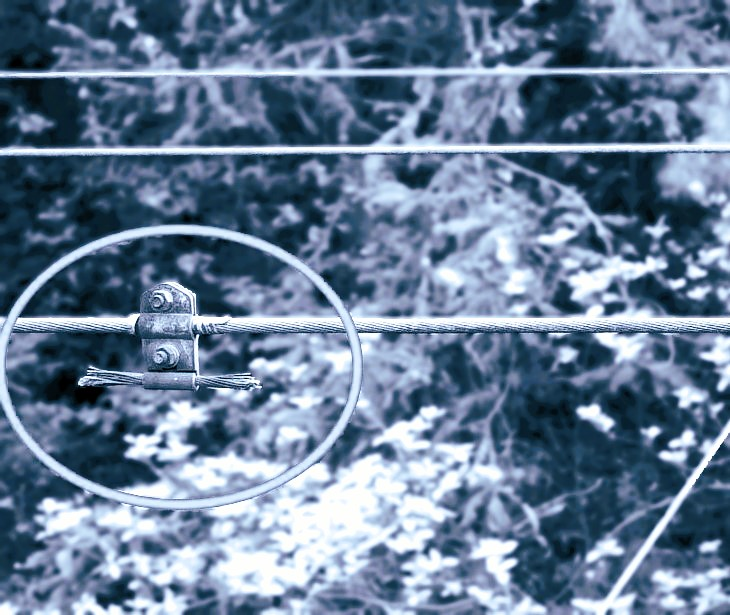Damage of shockproof hammer: (69, 271, 273, 409)
